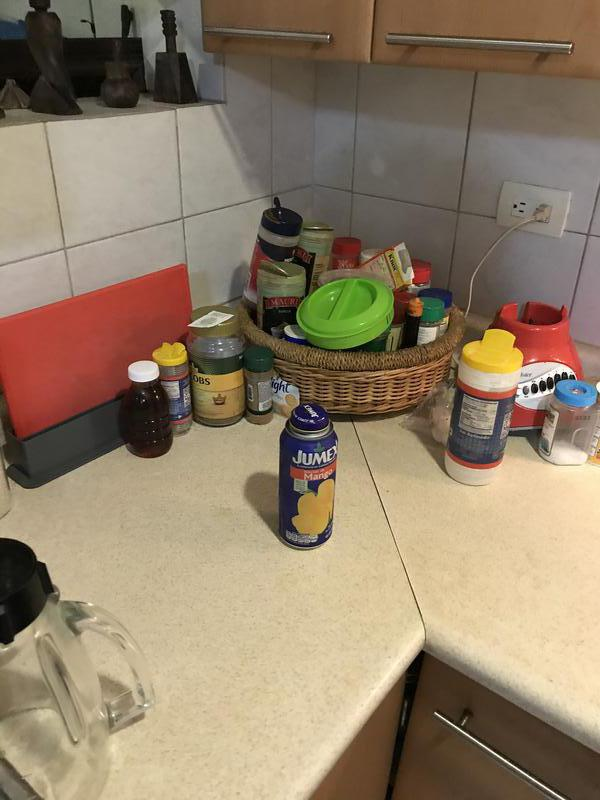jugo_jumex: (279, 405, 337, 553)
